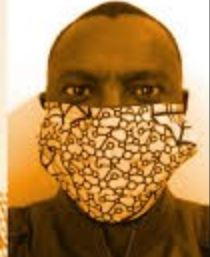with_facemask: (46, 100, 176, 208)
